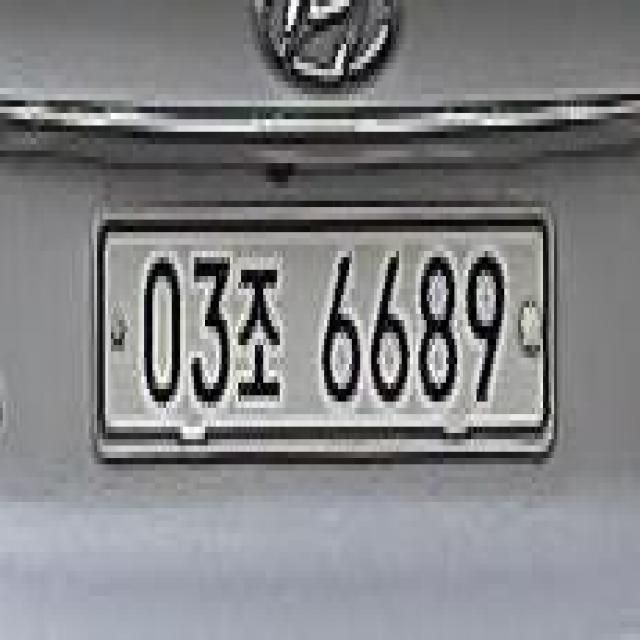illegal_plate: (91, 192, 562, 479)
